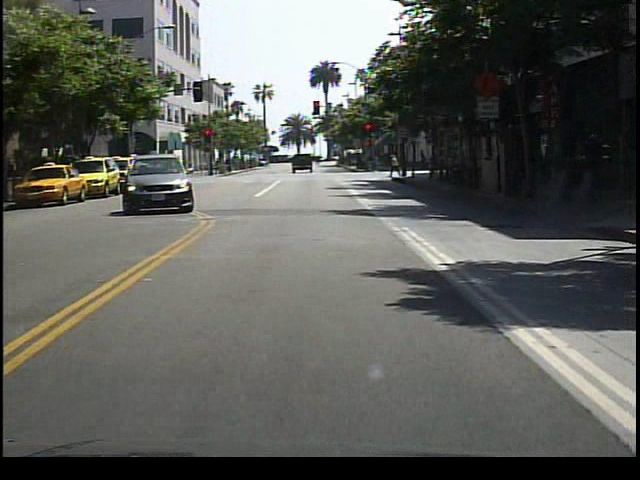person: (389, 150, 404, 178)
